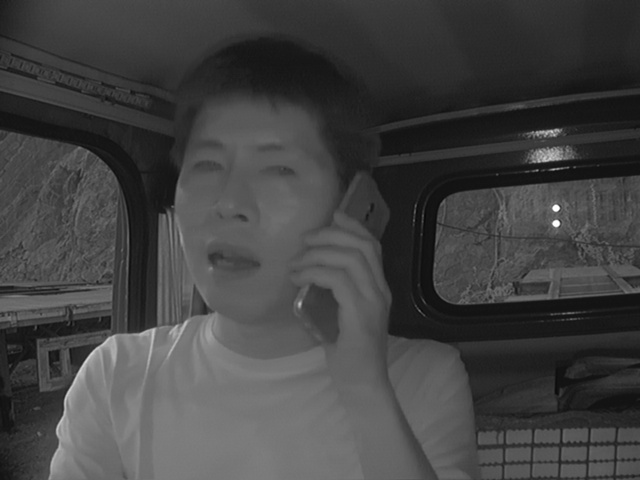hand: (294, 212, 400, 380)
